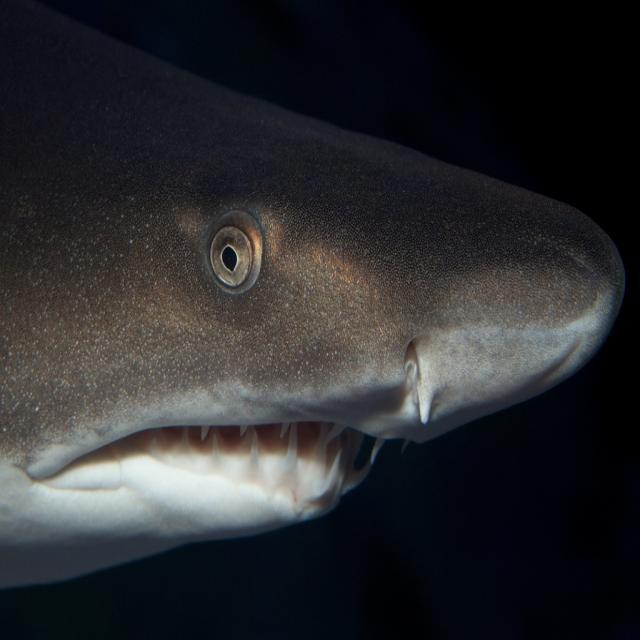Shark: (0, 3, 626, 595)
